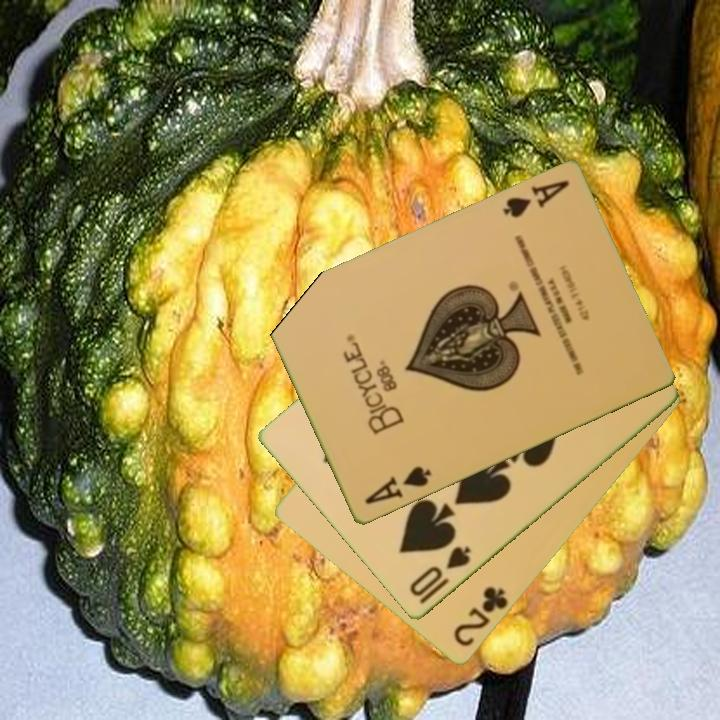10s: (405, 542, 474, 601)
2c: (450, 583, 511, 651)
As: (361, 463, 434, 509), (498, 177, 572, 222)
